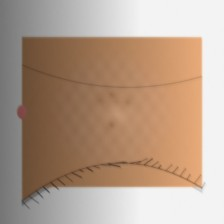hemorrhage_spot: (92, 92, 169, 153)
